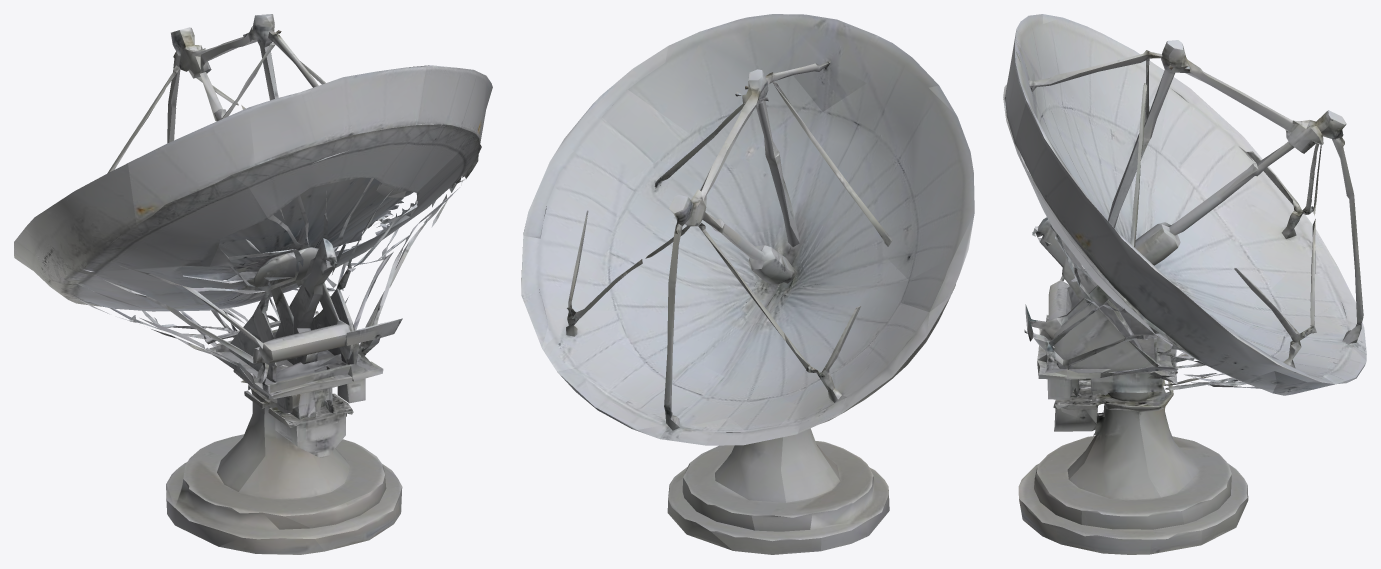
Rendered from sat_dish.glb.
The picture shows the model from 3 angles, left to right: view 1: azimuth 30°, elevation 25°; view 2: azimuth 150°, elevation 25°; view 3: azimuth 270°, elevation 25°; orthographic projection. The views are drawn at different scales.
Visible parts, largest first — view 1: sat_dish; view 2: sat_dish; view 3: sat_dish.
Boxes of the visible parts, box(x1,y1,x2,y2) form: sat_dish: box(14, 14, 492, 554); sat_dish: box(521, 14, 974, 554); sat_dish: box(1003, 14, 1366, 554).
Size of the model in its own units: 1.92 by 1.99 by 1.41.
1 material, 1 textured.
